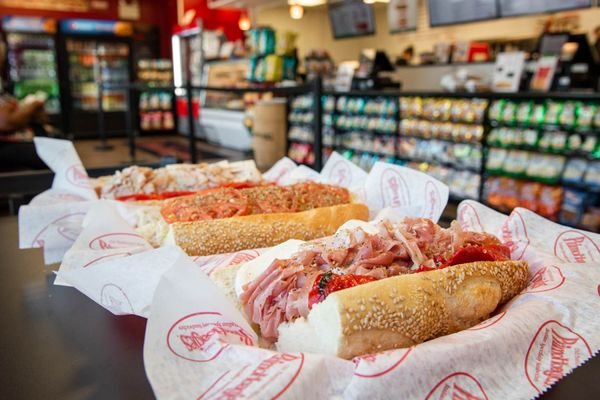burger: (219, 215, 533, 359)
curry: (2, 138, 561, 394)
